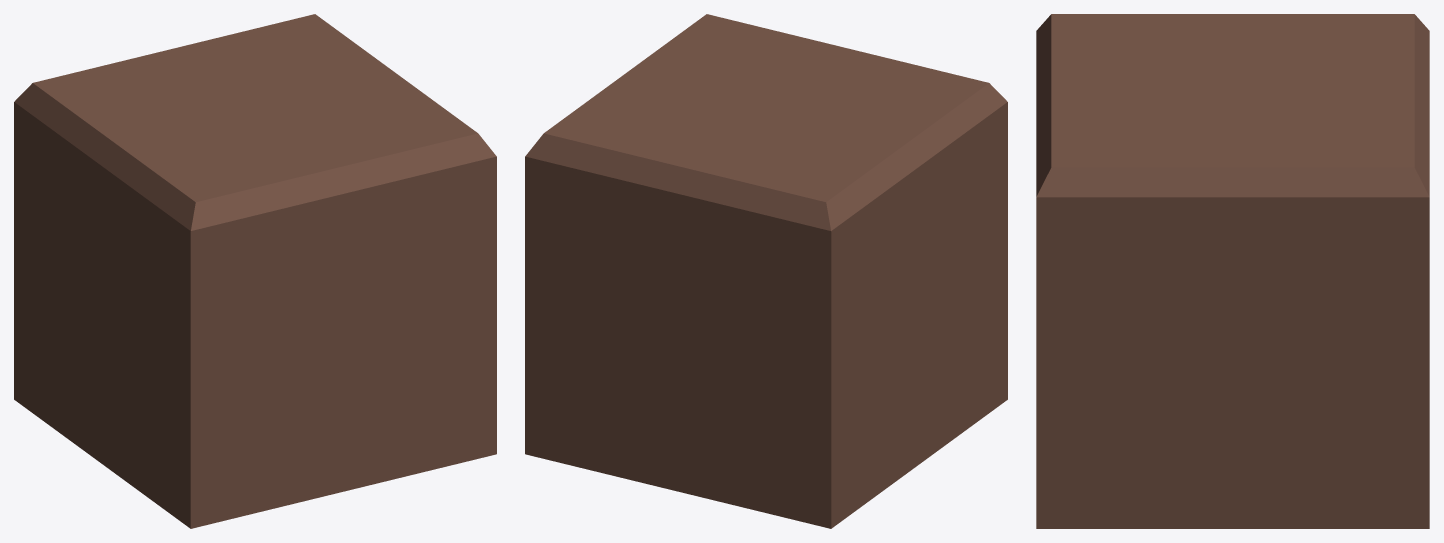
File: BaseTile.glb
The picture shows the model from 3 angles, left to right: view 1: azimuth 30°, elevation 25°; view 2: azimuth 150°, elevation 25°; view 3: azimuth 270°, elevation 25°; orthographic projection. The views are drawn at different scales.
Parts seen in each view (by area): view 1: GroundTile; view 2: GroundTile; view 3: GroundTile.
Boxes of the visible parts, x1,y1,x2,y2 form: GroundTile: (14,14,496,528); GroundTile: (525,14,1007,528); GroundTile: (1036,14,1429,528).
Size of the model in its own units: 2 by 1.99 by 2.
